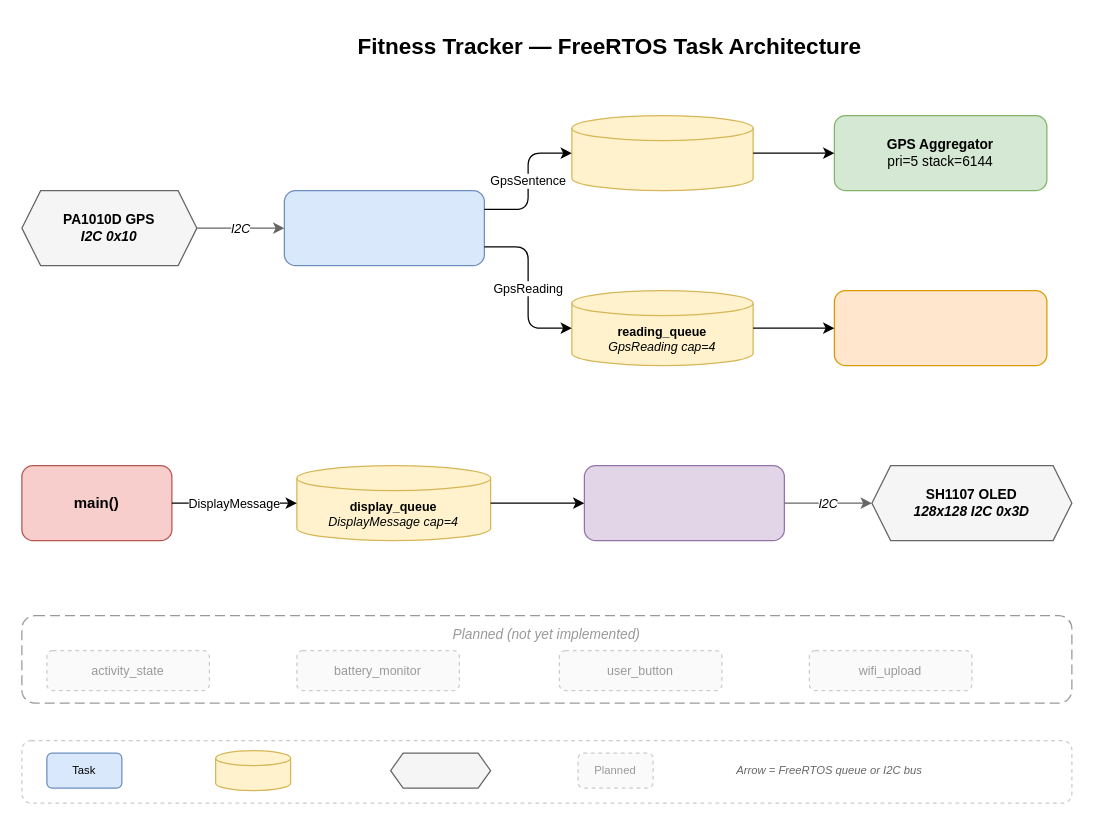
The diagram is 1094 pixels wide and 825 high, and some of its shapes have lost their labels. Each missing label, with the centre of its shape:
Display Task pri=4 stack=8192: the point at 683,502
GPS Acquisition pri=10 stack=6144: the point at 383,227
Hardware: the point at 440,770
Queue: the point at 252,770
SD Card Logger pri=5 stack=6144: the point at 940,327
sentence_queue GpsSentence cap=4: the point at 662,152
